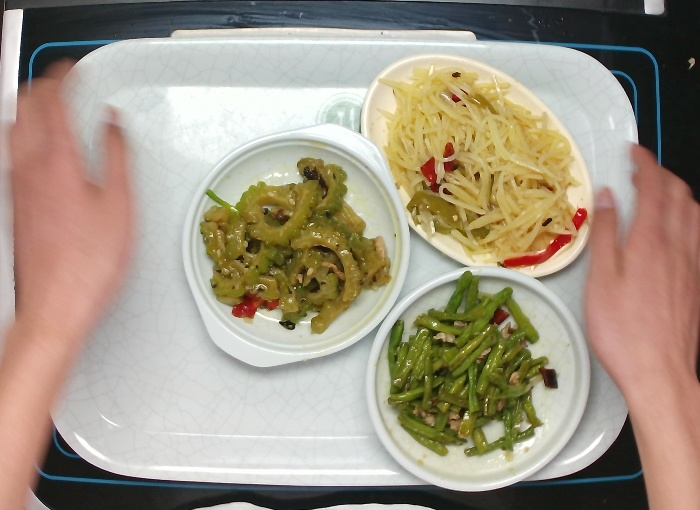JYsf-Shuang_Er_Pan: (180, 118, 413, 375)
JYsf-Tuo_Yuan_Wan: (358, 50, 600, 280)
JYsf-Xiao_Yuan_Pan: (362, 263, 593, 495)
